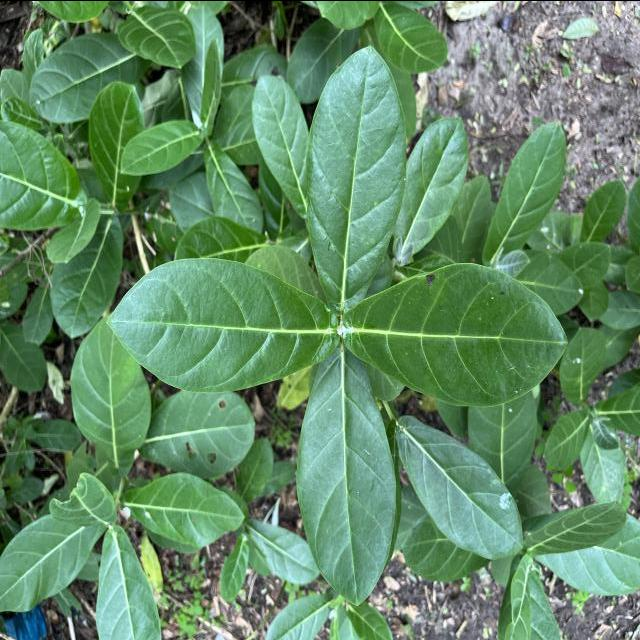Calotropis gigantea: (340, 258, 570, 408), (105, 255, 340, 394), (304, 42, 407, 314), (292, 352, 400, 608), (394, 412, 524, 560), (68, 309, 152, 466), (480, 119, 568, 264), (29, 29, 148, 124), (392, 114, 470, 258), (138, 386, 258, 476), (122, 469, 246, 548), (250, 72, 309, 220), (88, 78, 144, 211), (202, 138, 264, 230), (118, 118, 203, 178)
